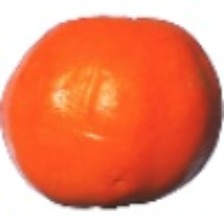tangerine: (16, 26, 181, 184)
